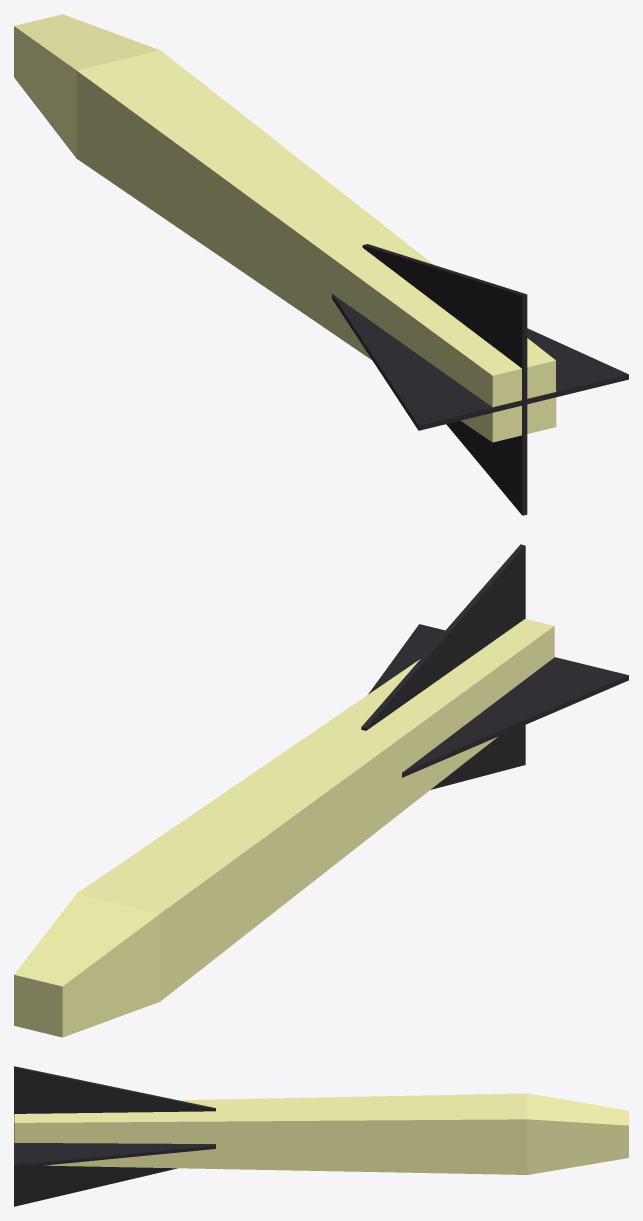
Rendered from Missile.FBX.
3 views of the same model, one above another, from view 1: azimuth 30°, elevation 25°; view 2: azimuth 150°, elevation 25°; view 3: azimuth 270°, elevation 25° (orthographic). The views are drawn at different scales.
Visible parts, largest first — view 1: Box002, Box003, Box004; view 2: Box002, Box003, Box004; view 3: Box002, Box003, Box004.
Boxes of the visible parts, <box> form: Box002: <box>14,14,556,442</box>; Box003: <box>362,244,527,515</box>; Box004: <box>332,294,628,430</box>; Box002: <box>14,619,554,1037</box>; Box003: <box>361,544,525,789</box>; Box004: <box>368,624,628,777</box>; Box002: <box>14,1093,628,1174</box>; Box003: <box>14,1066,215,1206</box>; Box004: <box>14,1134,215,1168</box>.
Size of the model in its own units: 0.3824 by 0.3824 by 1.53.
Materials: 1 (1 with a texture image).
